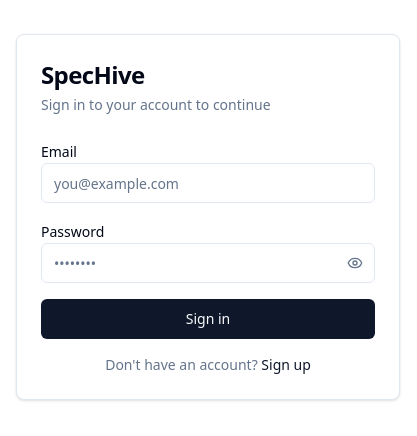
Test: LoginPage › shows error when submitting empty form
What coordinates should you click on to do the following:
click the button "Sign in"
I would click on:
 (208, 319)
Its box is [41,299,375,339].
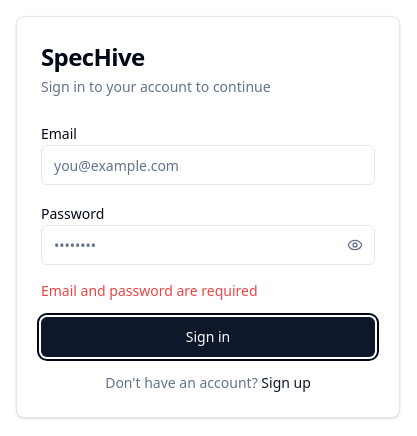
Check: the text "Email and password are required" is shown, box [41,281,258,300]
